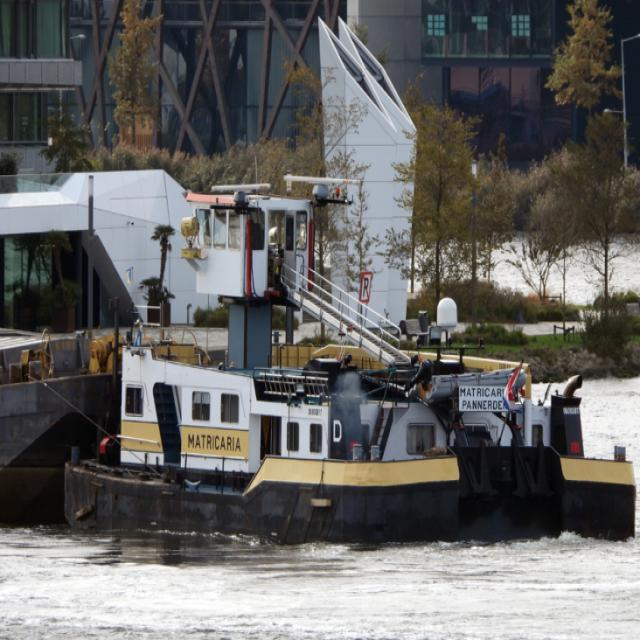tugboat: (56, 153, 640, 565)
